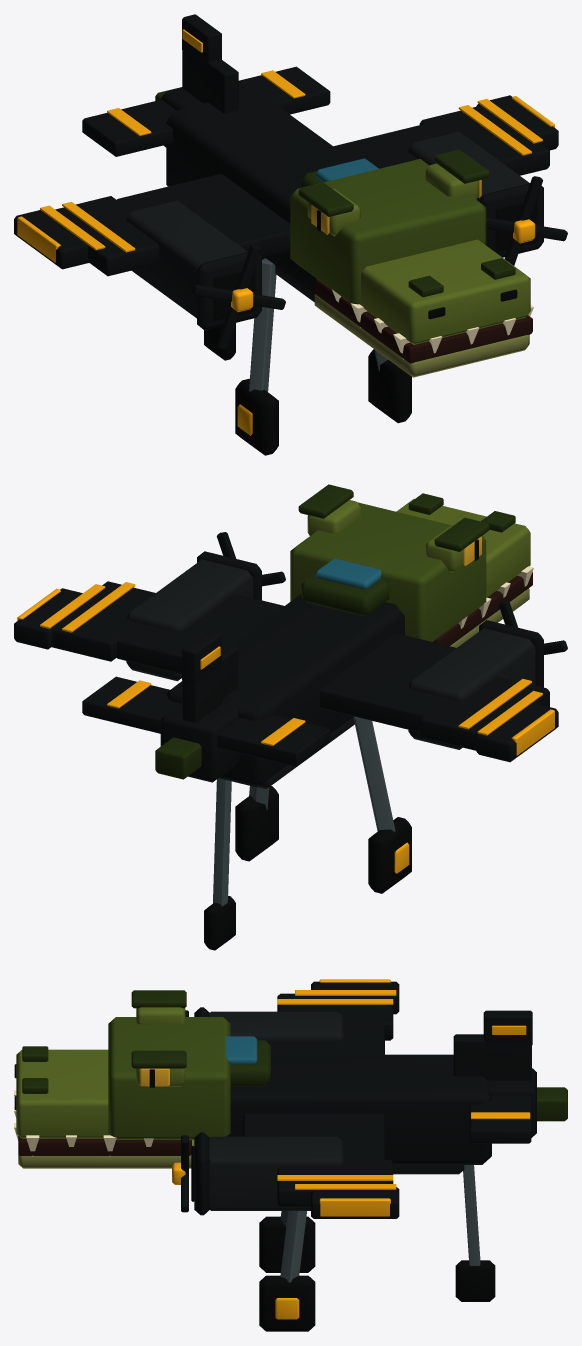
Rendered from Crocodilo_Mini.glb.
3 renders of one model, top to bottom at view 1: azimuth 30°, elevation 25°; view 2: azimuth 150°, elevation 25°; view 3: azimuth 270°, elevation 25°, orthographic. The views are drawn at different scales.
Parts seen in each view (by area): view 1: Crocodilo_Mini; view 2: Crocodilo_Mini; view 3: Crocodilo_Mini.
Part boxes in pixels (x1=…): Crocodilo_Mini: x1=14, y1=14, x2=567, y2=455; Crocodilo_Mini: x1=14, y1=484, x2=567, y2=950; Crocodilo_Mini: x1=14, y1=979, x2=567, y2=1331.
Size of the model in its own units: 6.1 by 3.69 by 6.44.
1 material, 1 textured.
